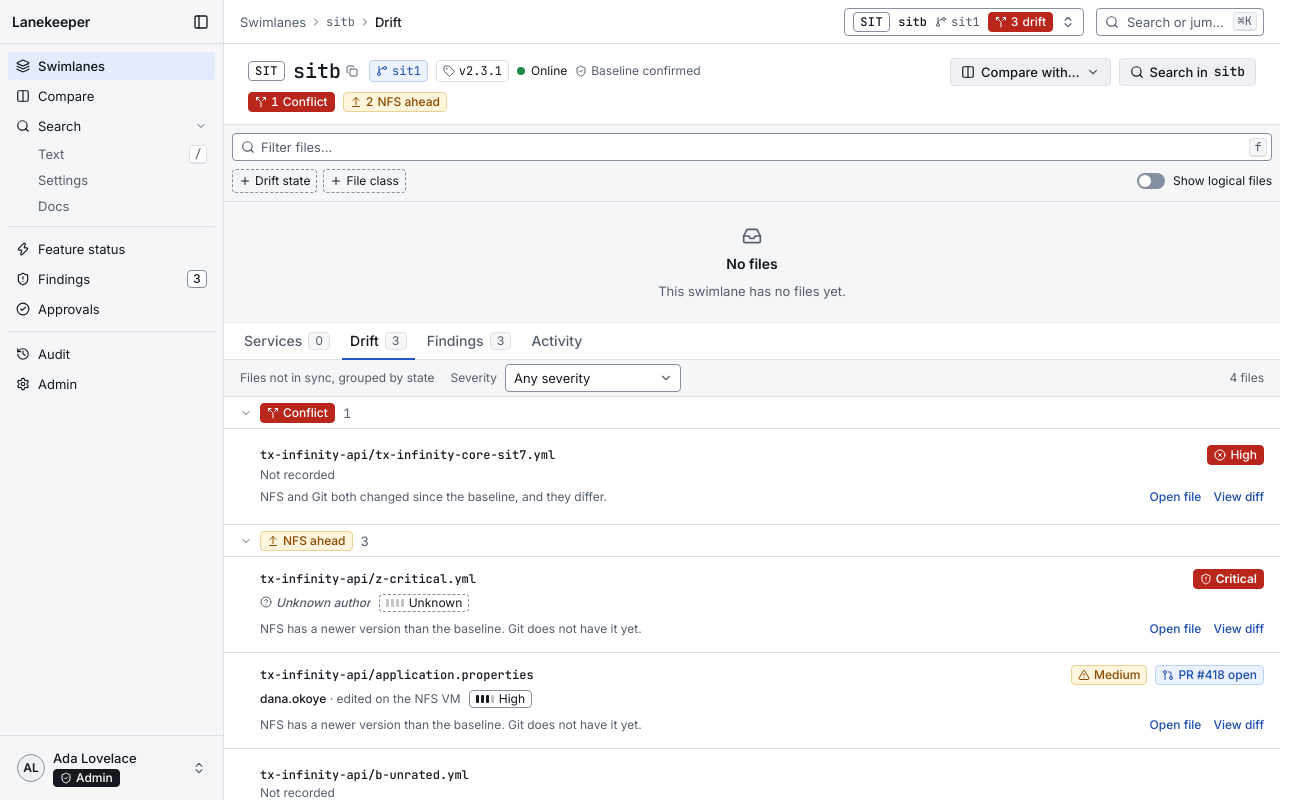
the Drift tab › who changed a file, how serious it is, and its pull request › says no more when every page is loaded, and says when the filter leaves nothing
expect the text "tx-infinity-api/z-critical.yml" is shown: met, box [260, 570, 476, 586]
Select "Critical only" in the dropdown labelled "Severity" at (593, 378), box [505, 364, 681, 392]
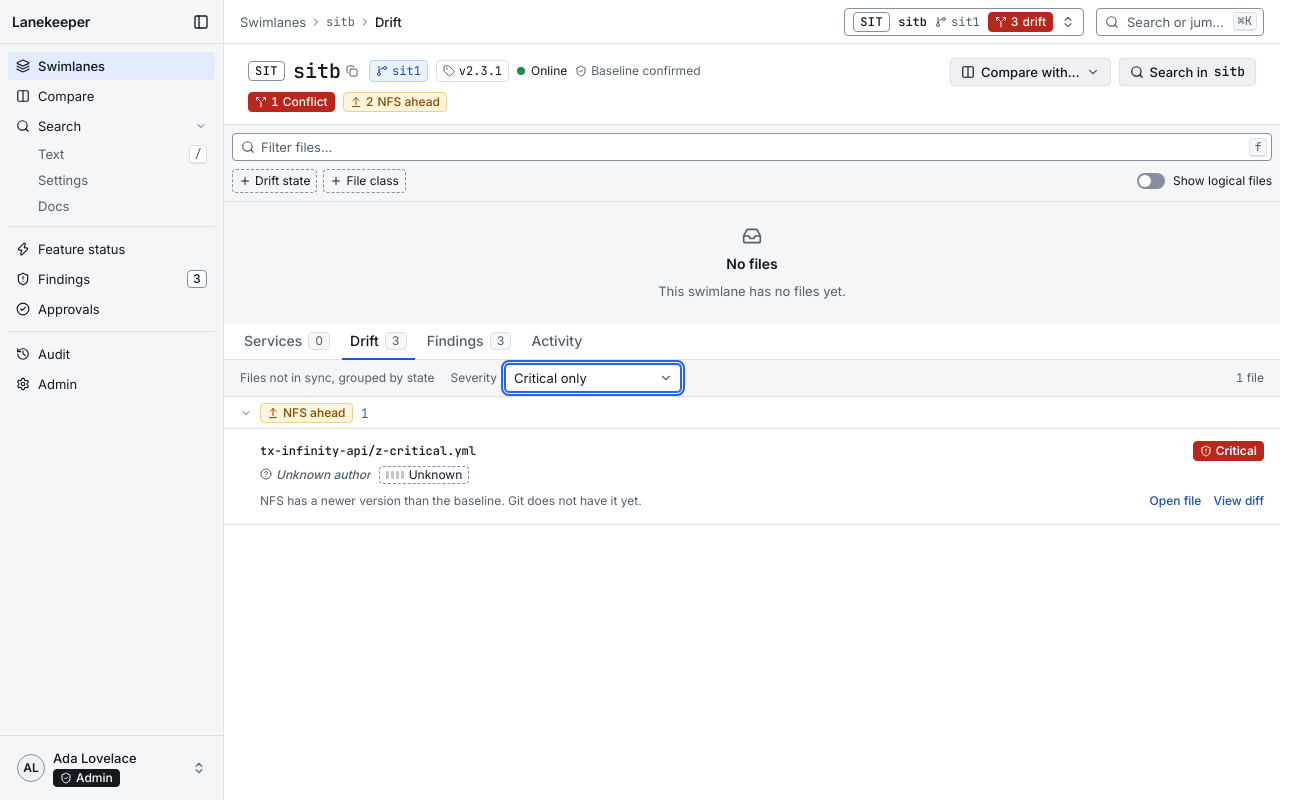
expect the text "tx-infinity-api/application.properties" is gone: met
Select "Any severity" in the dropdown labelled "Severity" at (593, 378), box [505, 364, 681, 392]
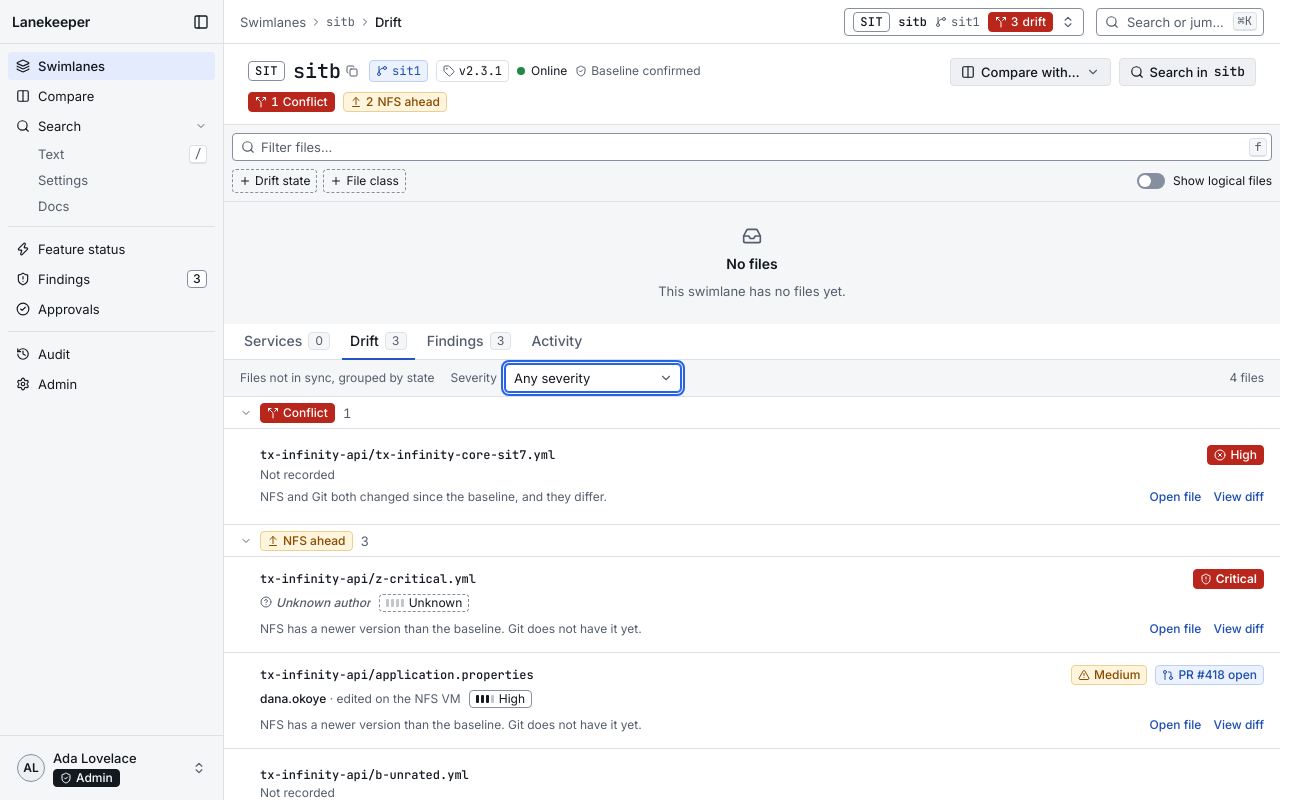
expect the text "tx-infinity-api/application.properties" is shown: met, box [260, 666, 534, 682]
